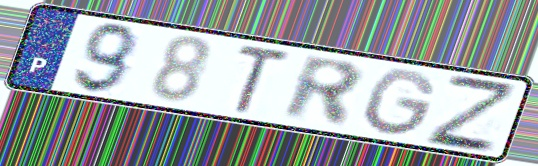8: (146, 34, 215, 106)
9: (72, 21, 145, 97)
G: (361, 67, 440, 140)
R: (280, 52, 366, 131)
T: (228, 41, 295, 116)
Z: (423, 71, 517, 155)
